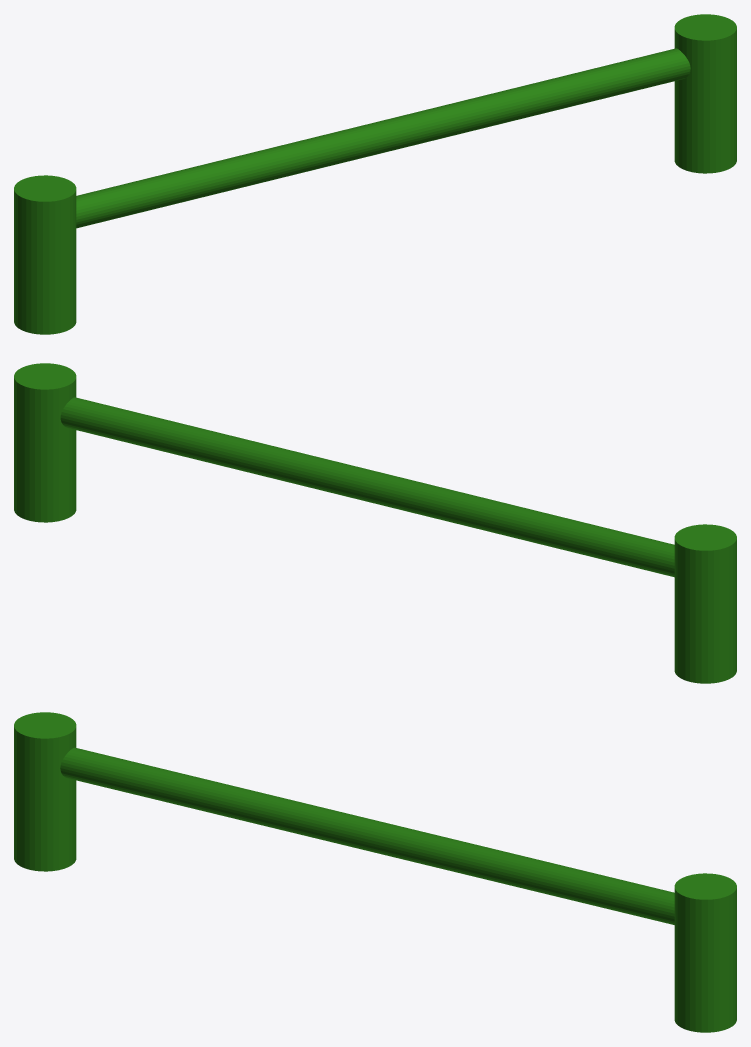
Rendered from Fence.glb.
3 views of the same model, one above another, from view 1: azimuth 30°, elevation 25°; view 2: azimuth 150°, elevation 25°; view 3: azimuth 330°, elevation 25° (orthographic).
Visible parts, largest first — view 1: Cylinder.001; view 2: Cylinder.001; view 3: Cylinder.001.
Boxes of the visible parts, <box> form: Cylinder.001: <box>14,14,736,334</box>; Cylinder.001: <box>14,363,736,683</box>; Cylinder.001: <box>14,712,736,1032</box>.
Size of the model in its own units: 13.51 by 2.4 by 1.02.
